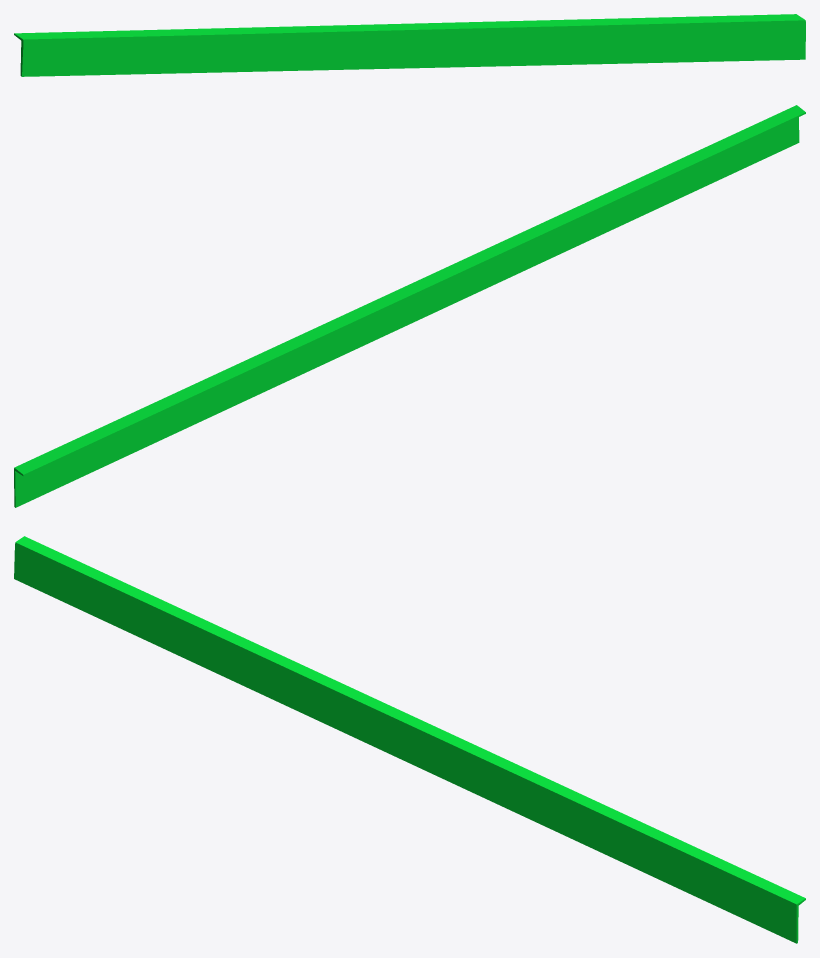
The model's file is Edge_Metal_Left_Right.fbx.
The picture shows the model from 3 angles, top to bottom: view 1: azimuth 30°, elevation 25°; view 2: azimuth 210°, elevation 25°; view 3: azimuth 330°, elevation 25°; orthographic projection.
Parts seen in each view (by area): view 1: Edge_Metal_Left_Right; view 2: Edge_Metal_Left_Right; view 3: Edge_Metal_Left_Right.
Part boxes in pixels (x1,y1,x2,y2): Edge_Metal_Left_Right: [14, 14, 805, 76]; Edge_Metal_Left_Right: [14, 105, 805, 507]; Edge_Metal_Left_Right: [14, 536, 805, 943].
Bounding box in the file's own units: 131 × 33.75 × 2.75.
